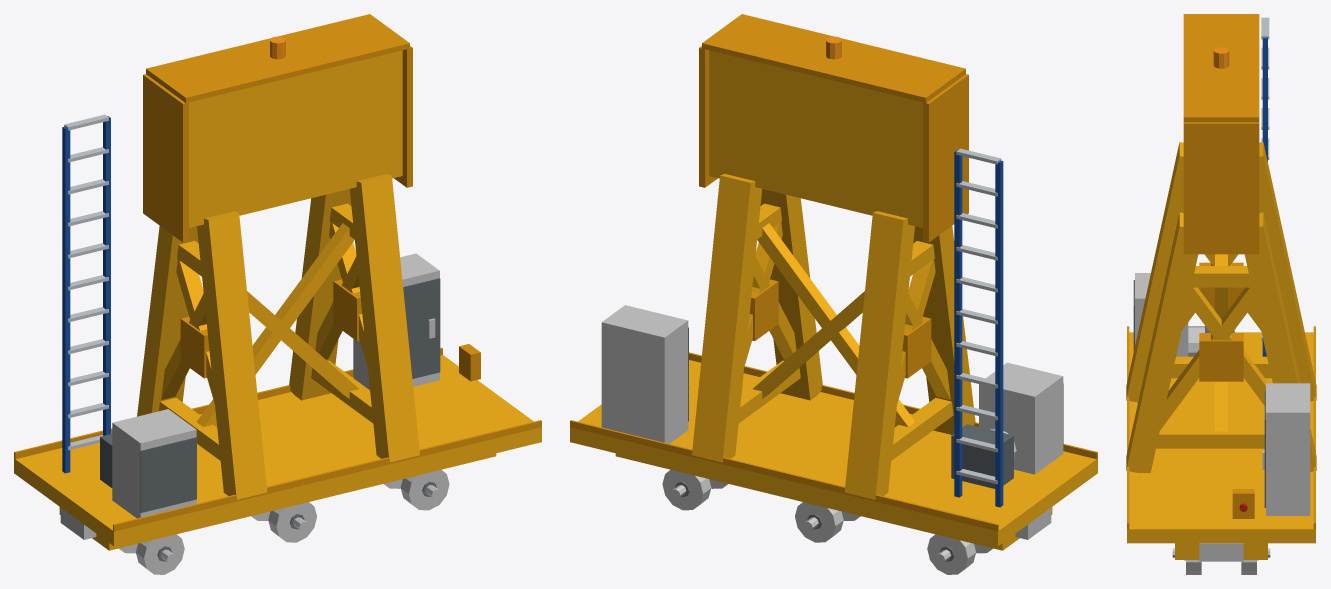
The model's file is body.obj.
3 renders of one model, left to right at view 1: azimuth 30°, elevation 25°; view 2: azimuth 150°, elevation 25°; view 3: azimuth 270°, elevation 25°, orthographic. The views are drawn at different scales.
Bounding box in the file's own units: 4.2 × 4.59 × 1.72.
